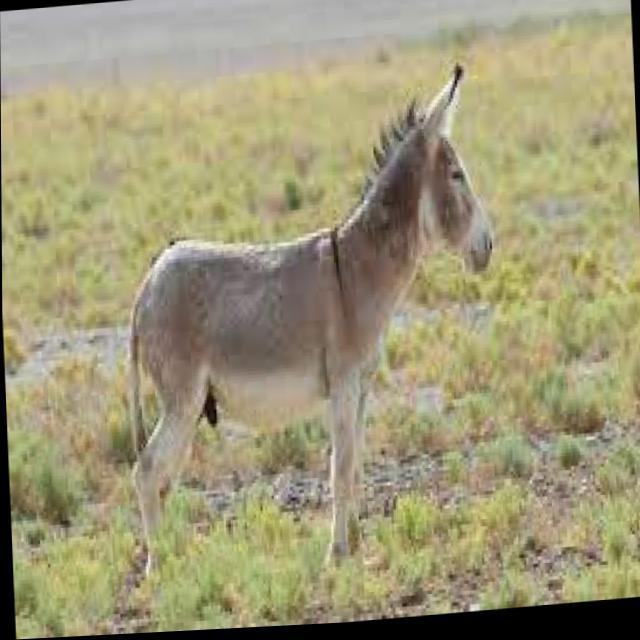Donkey: (83, 61, 550, 636)
